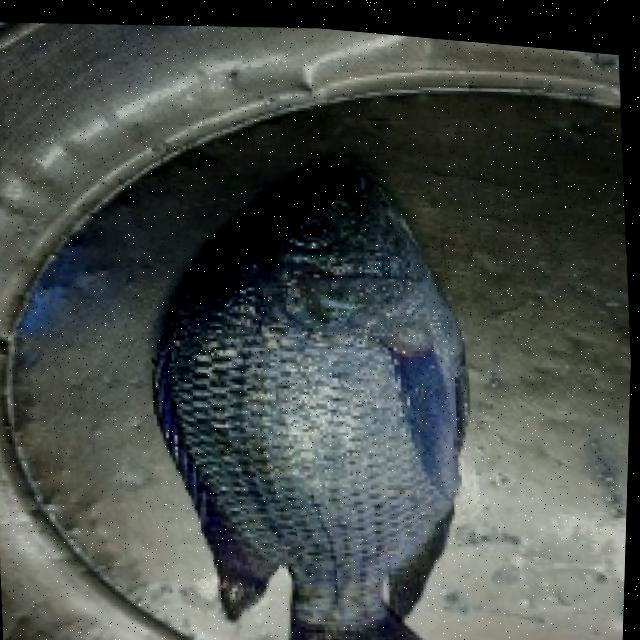Fresh: (94, 113, 515, 640)
